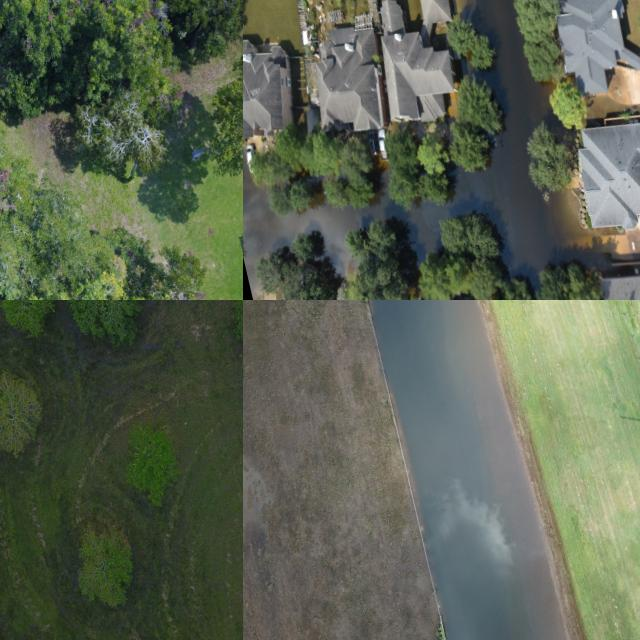fire: (369, 300, 569, 640), (406, 0, 584, 288), (243, 162, 396, 300)
